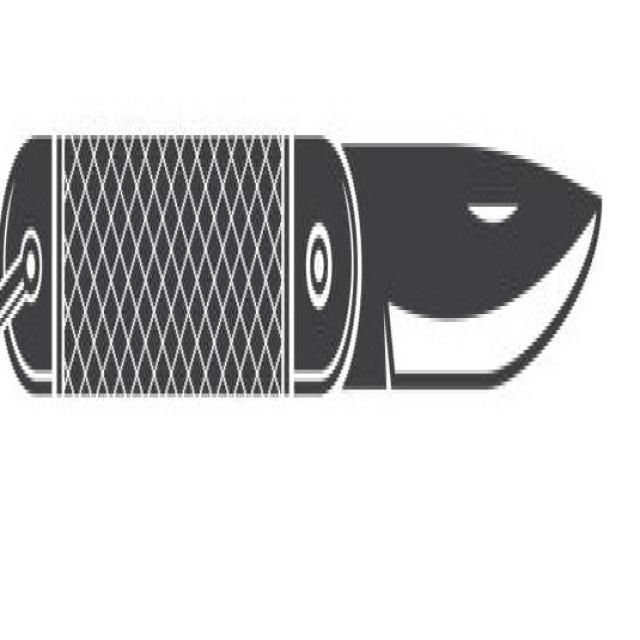knife: (1, 101, 604, 462)
